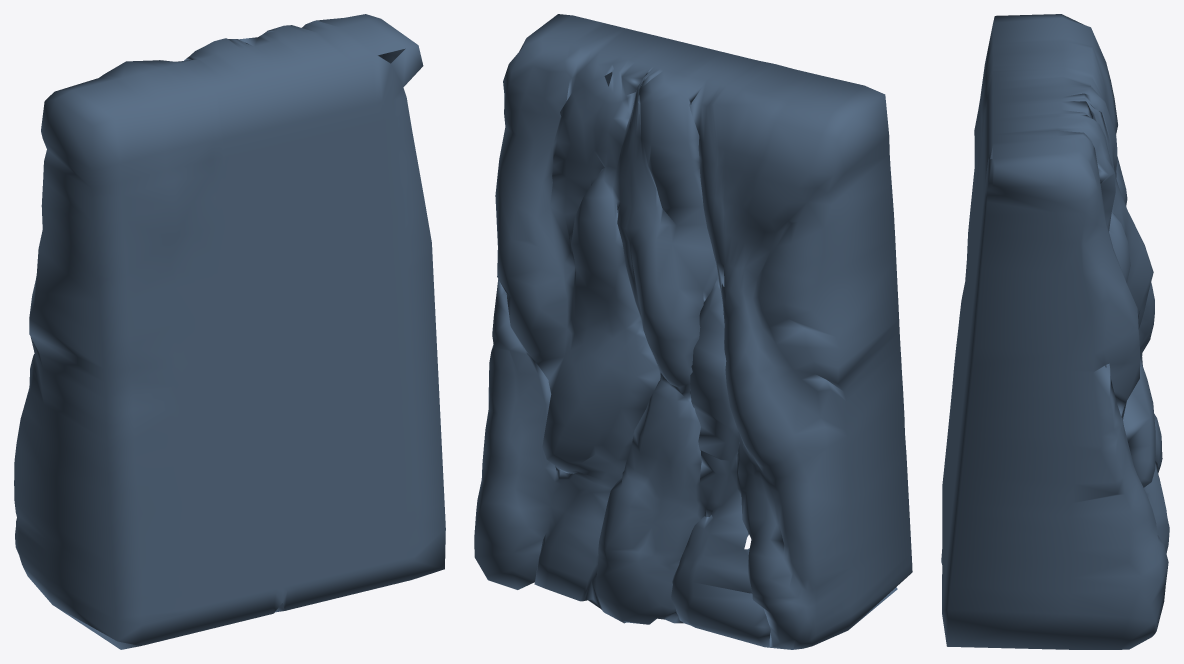
File: Set1.Wall.Basic.001.dae
3 renders of one model, left to right at view 1: azimuth 30°, elevation 25°; view 2: azimuth 150°, elevation 25°; view 3: azimuth 270°, elevation 25°, orthographic. The views are drawn at different scales.
Visible parts, largest first — view 1: Plane; view 2: Plane; view 3: Plane.
Boxes of the visible parts, x1=… form: Plane: x1=14, y1=14, x2=445, y2=649; Plane: x1=474, y1=14, x2=912, y2=649; Plane: x1=941, y1=14, x2=1169, y2=649.
Bounding box in the file's own units: 12.87 × 7.83 × 18.66.
